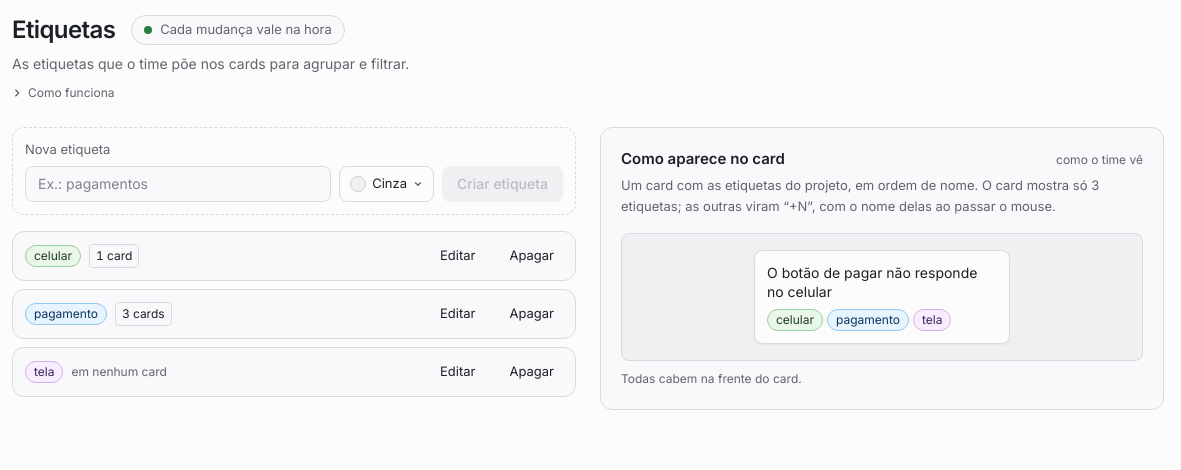
Test: a tela de Etiquetas › nome repetido diz que já existia e marca a que estava, sem linha dobrada
Expected: the button with aria-label "Editar pagamento" is shown, [427,298,488,330]
Type "Pagamento" into the field labelled "Nova etiqueta" at (178, 184), box [25,166,331,202]
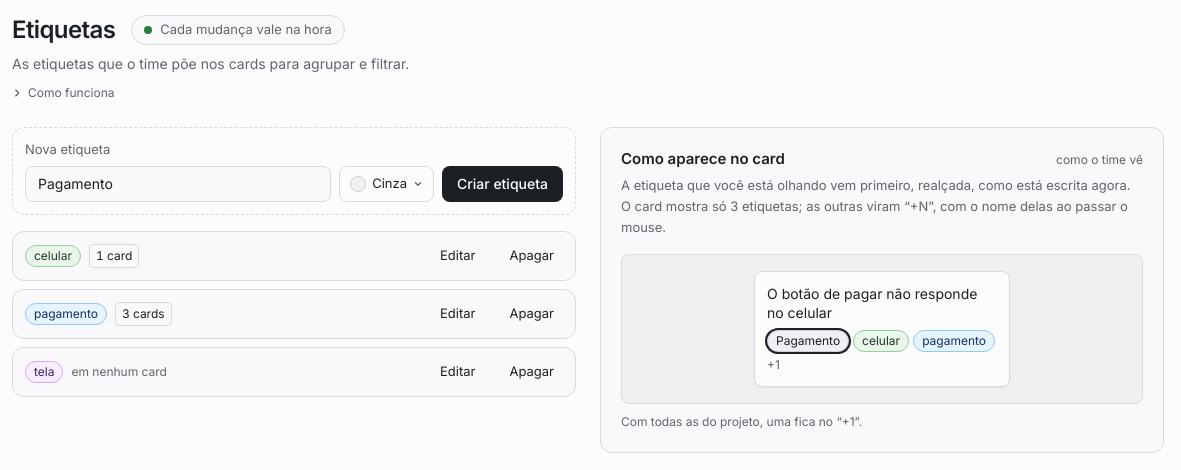
Click the button "Criar etiqueta" at (502, 184), box [442,166,563,202]
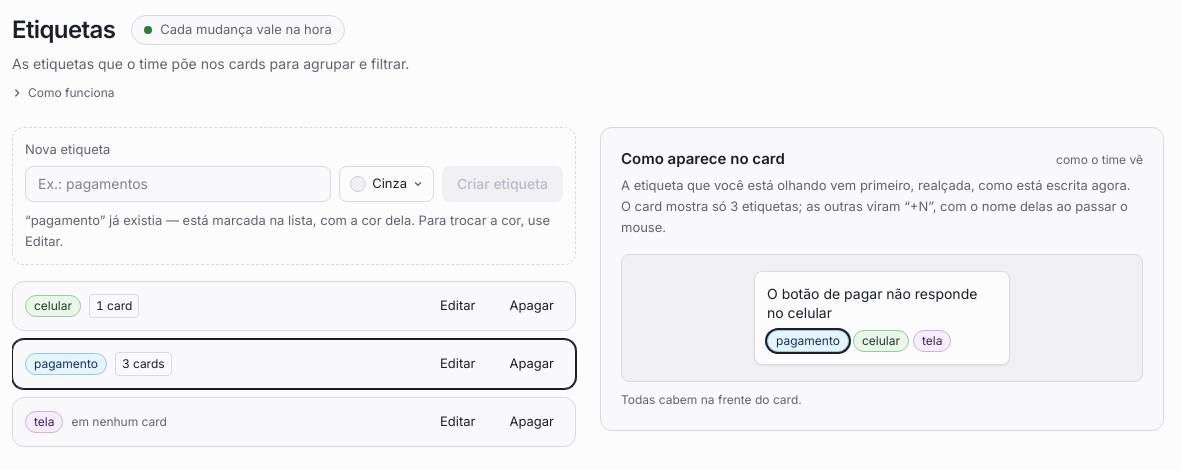
Expected: the number of list items is 3, [12,281,576,331]; [12,339,576,389]; [12,397,576,447]
Expected: the text "pagamento" is shown once, [34,355,98,373]
Escrever de novo tira a marca e o aviso.
Type "x" into the field labelled "Nova etiqueta" at (178, 184), box [25,166,331,202]
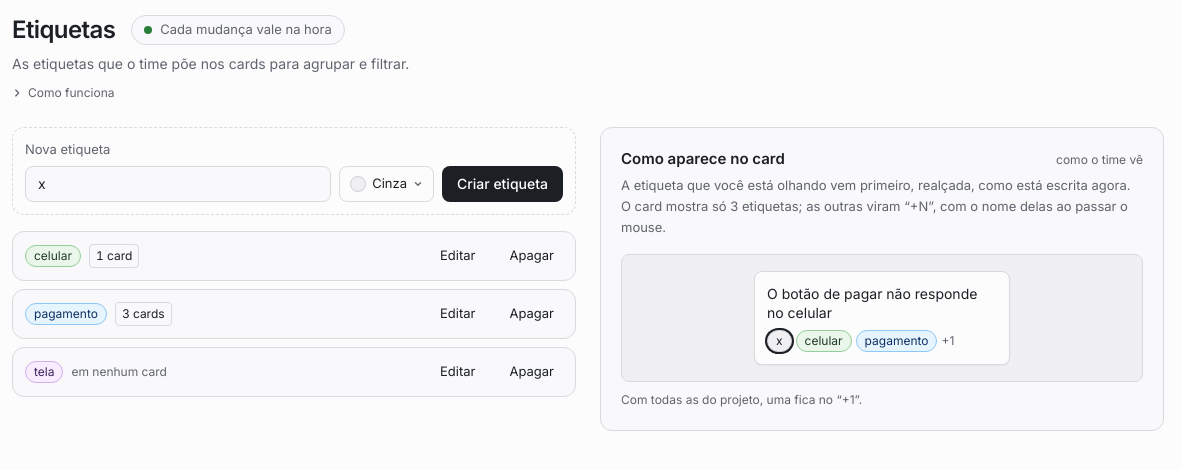
Expected: the text "já existia" is gone
